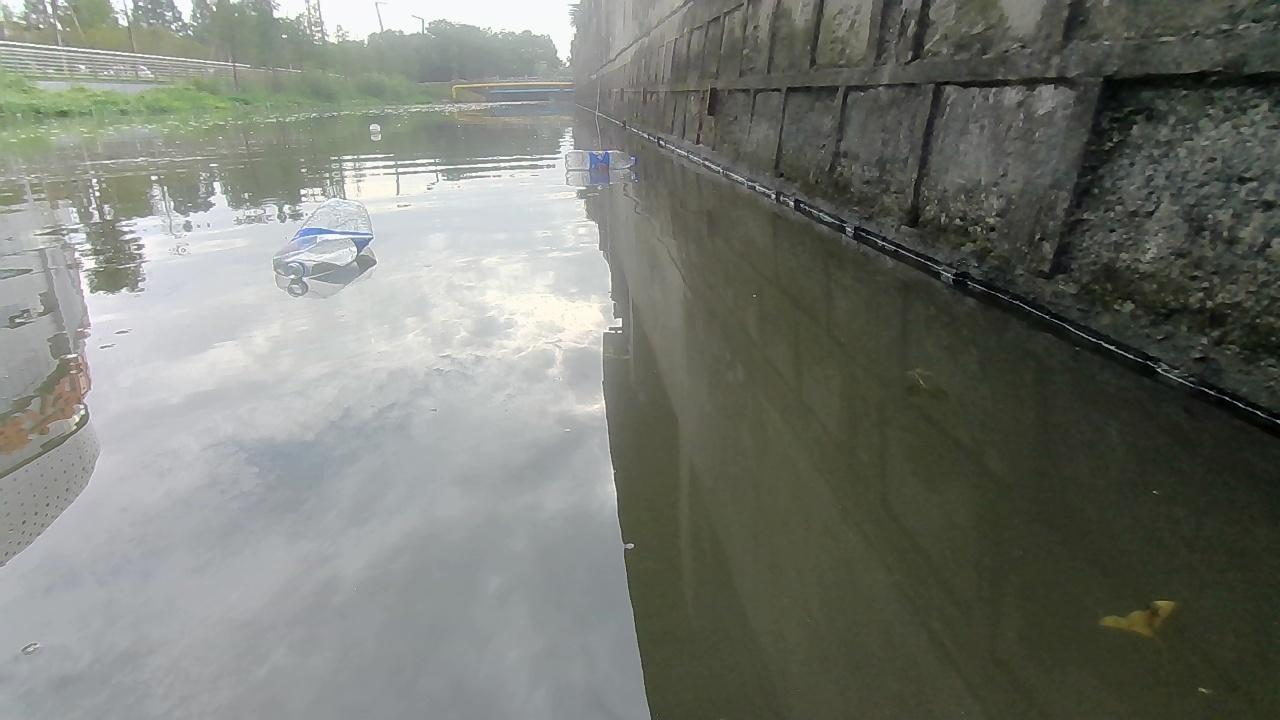bottle: (267, 197, 379, 278), (560, 147, 644, 167), (371, 122, 383, 136)
